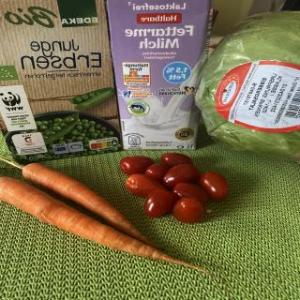carrot: (0, 175, 220, 285), (16, 158, 160, 246)
tomato: (158, 160, 202, 194), (169, 178, 214, 208), (140, 186, 180, 218), (124, 168, 164, 199), (112, 150, 156, 178), (171, 194, 211, 224), (158, 146, 198, 174), (200, 167, 228, 204)
